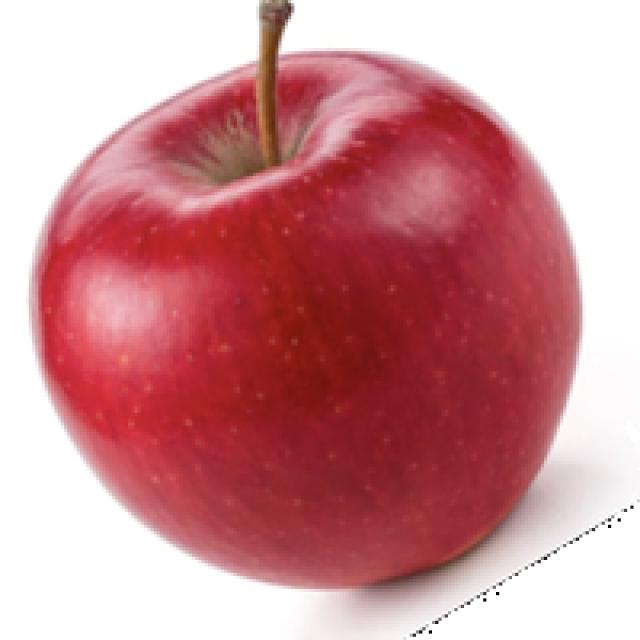apple: (22, 0, 637, 637)
